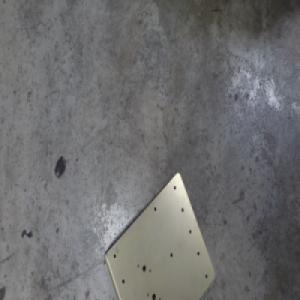MetalSheet: (102, 169, 216, 300)
